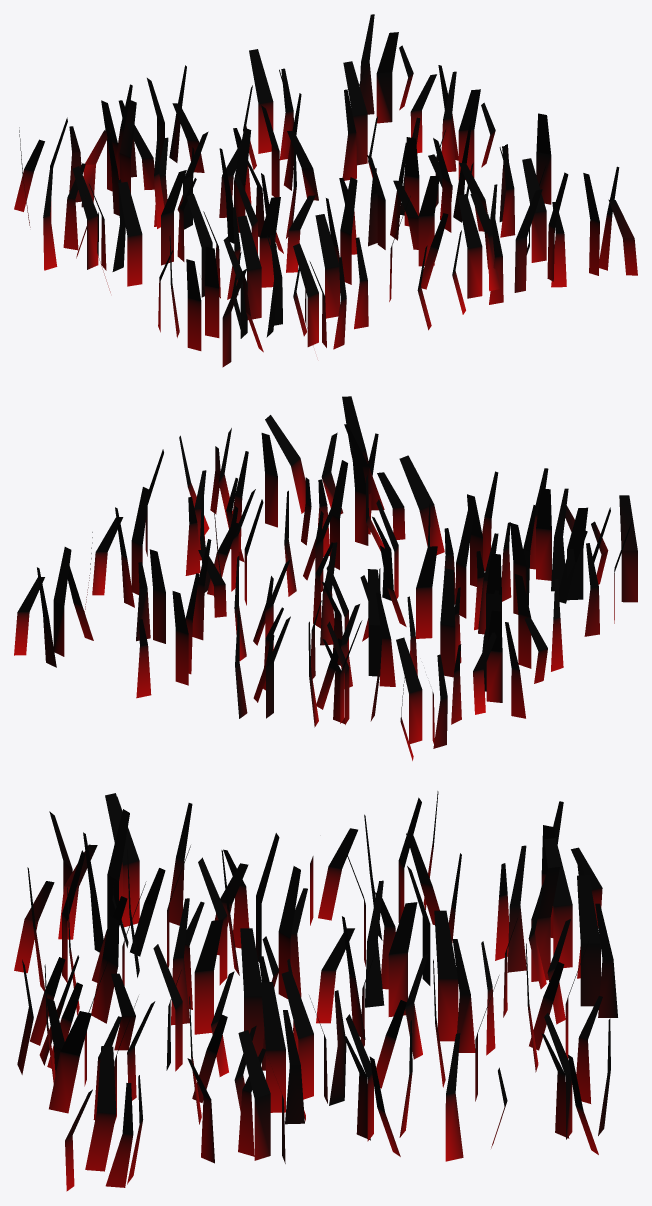
File: gespa.FBX
3 views of the same model, one above another, from view 1: azimuth 30°, elevation 25°; view 2: azimuth 150°, elevation 25°; view 3: azimuth 270°, elevation 25° (orthographic). The views are drawn at different scales.
Visible parts, largest first — view 1: gespa; view 2: gespa; view 3: gespa.
Boxes of the visible parts, <box> form: gespa: <box>14,14,637,367</box>; gespa: <box>14,396,637,760</box>; gespa: <box>14,791,617,1191</box>.
Size of what is drawn, in the model's own units: 2641 by 2498 by 802.
